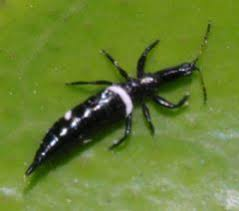Phlaeothripidae: (23, 20, 214, 177)
